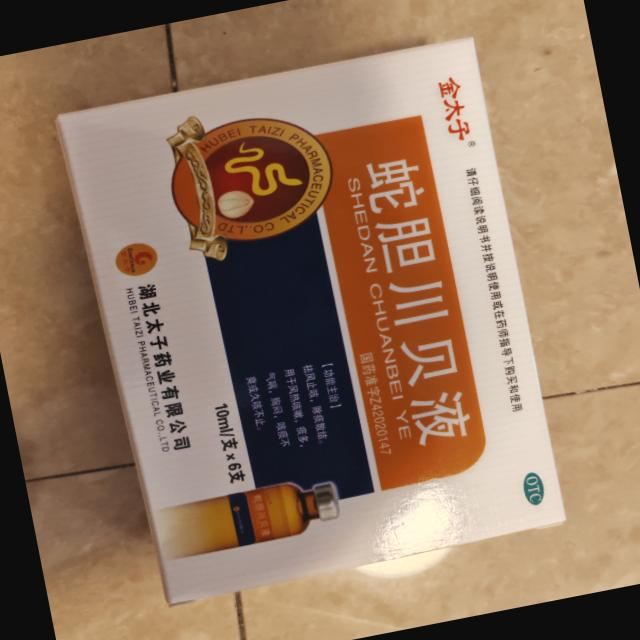box: (42, 21, 585, 620)
